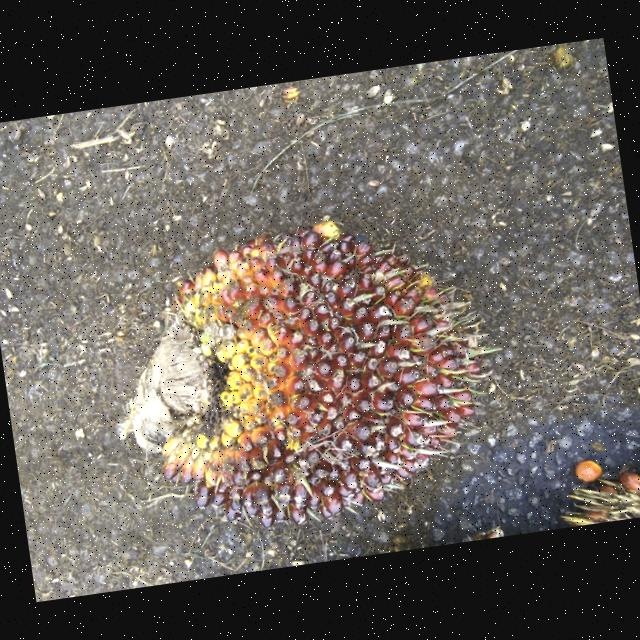Ripe: (151, 207, 496, 521)
